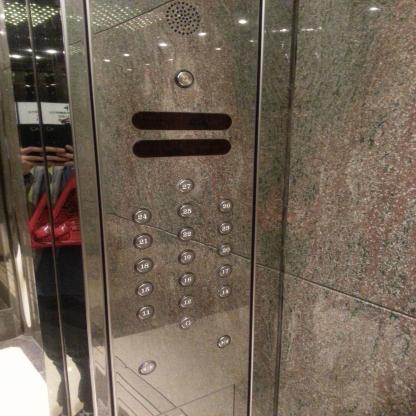11: (136, 304, 155, 320)
12: (178, 293, 196, 310)
14: (216, 284, 233, 300)
15: (134, 280, 156, 298)
16: (178, 271, 196, 288)
17: (218, 263, 234, 279)
18: (133, 256, 155, 274)
19: (177, 249, 196, 265)
20: (218, 242, 234, 258)
21: (133, 232, 154, 250)
22: (177, 225, 196, 242)
23: (218, 219, 234, 236)
24: (131, 208, 153, 226)
25: (177, 202, 196, 219)
26: (218, 197, 234, 214)
27: (176, 178, 194, 194)
G: (180, 315, 196, 330)
alarm: (174, 68, 195, 88)
close: (216, 334, 232, 348)
open: (138, 358, 158, 376)
